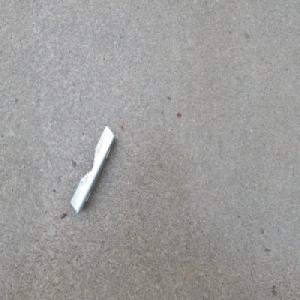ClampPart: (70, 123, 116, 215)
